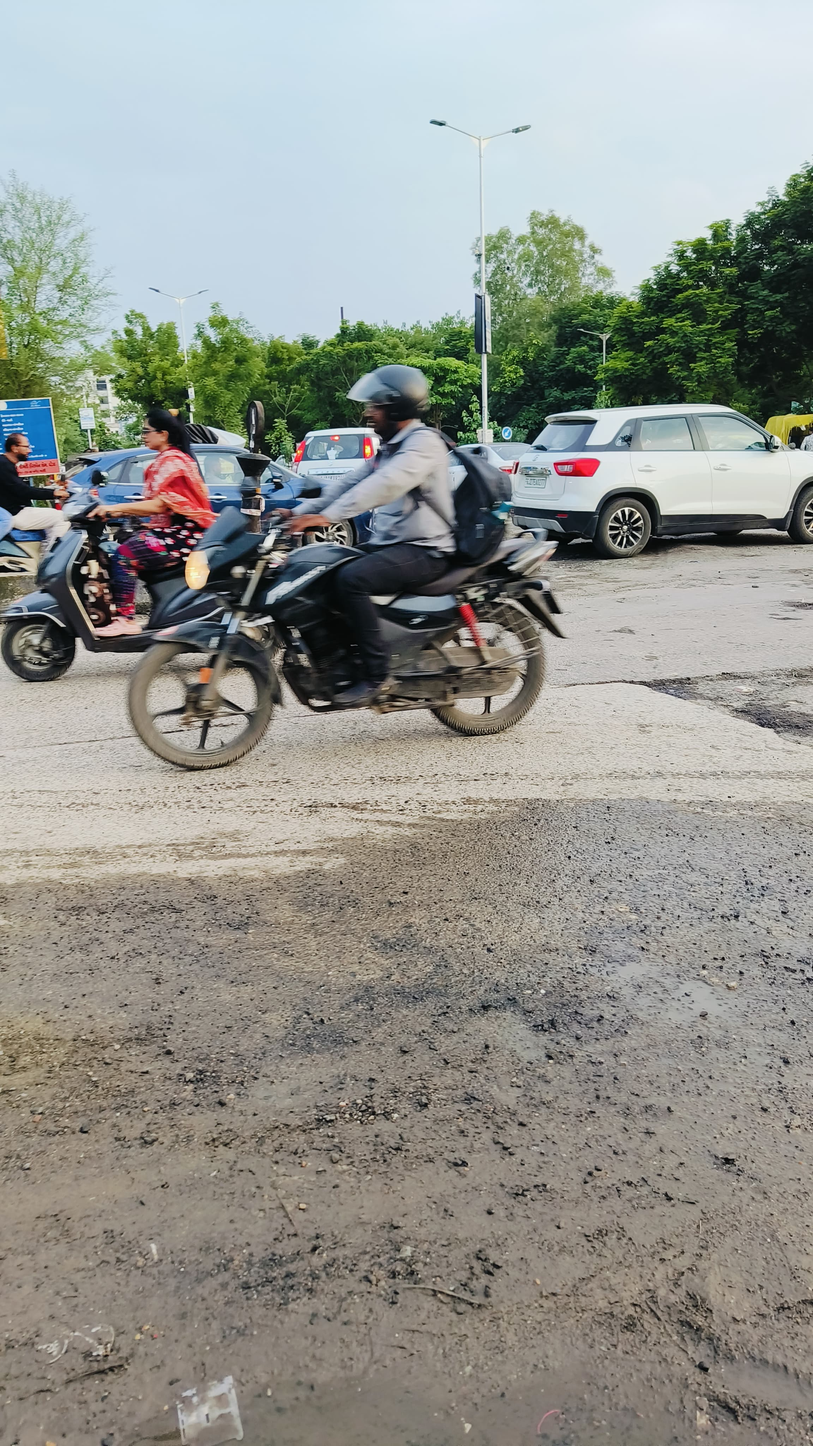BikeWithRider: (118, 354, 577, 782), (1, 397, 259, 689), (0, 423, 81, 579)
Helmet: (340, 355, 440, 445)
NoHelmet: (130, 404, 191, 455), (0, 425, 35, 460)
